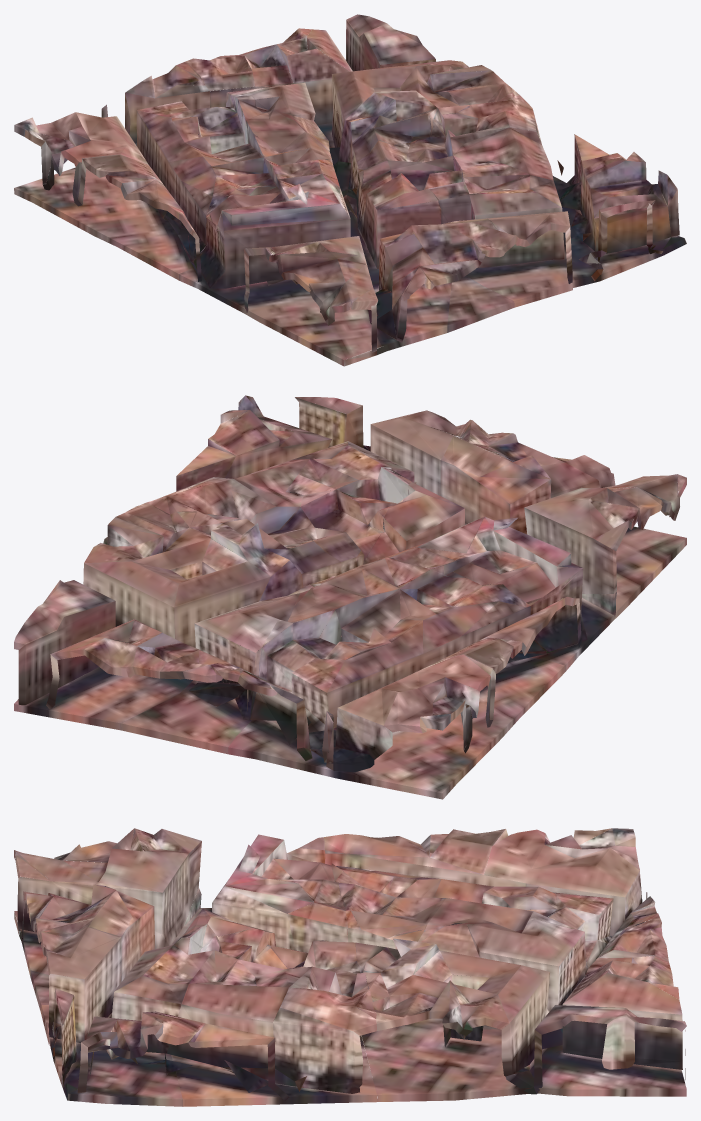
3 renders of one model, top to bottom at view 1: azimuth 30°, elevation 25°; view 2: azimuth 150°, elevation 25°; view 3: azimuth 270°, elevation 25°, orthographic. The views are drawn at different scales.
Parts seen in each view (by area): view 1: Mesh_0; view 2: Mesh_0; view 3: Mesh_0.
Part boxes in pixels (x1,y1,x2,y2): Mesh_0: [14, 14, 686, 366]; Mesh_0: [14, 395, 686, 799]; Mesh_0: [14, 828, 686, 1106].
Bounding box in the file's own units: 134 × 32.03 × 165.
Materials: 2 (2 with a texture image).
